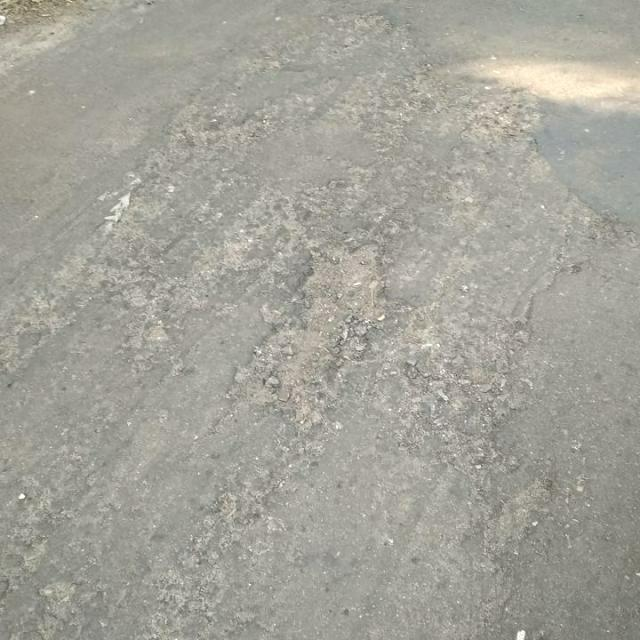Pothole: (225, 233, 396, 420)
